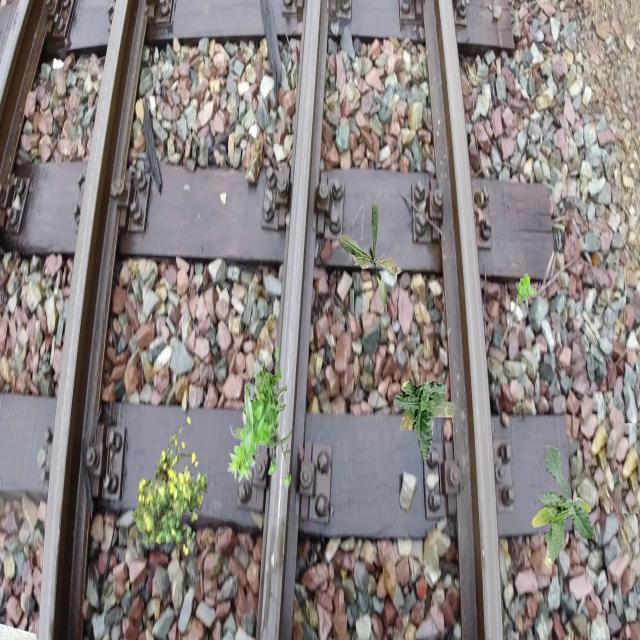Plant: (132, 416, 207, 556), (228, 347, 292, 490), (531, 445, 594, 570), (339, 201, 403, 313), (394, 381, 458, 464), (517, 274, 538, 307)
